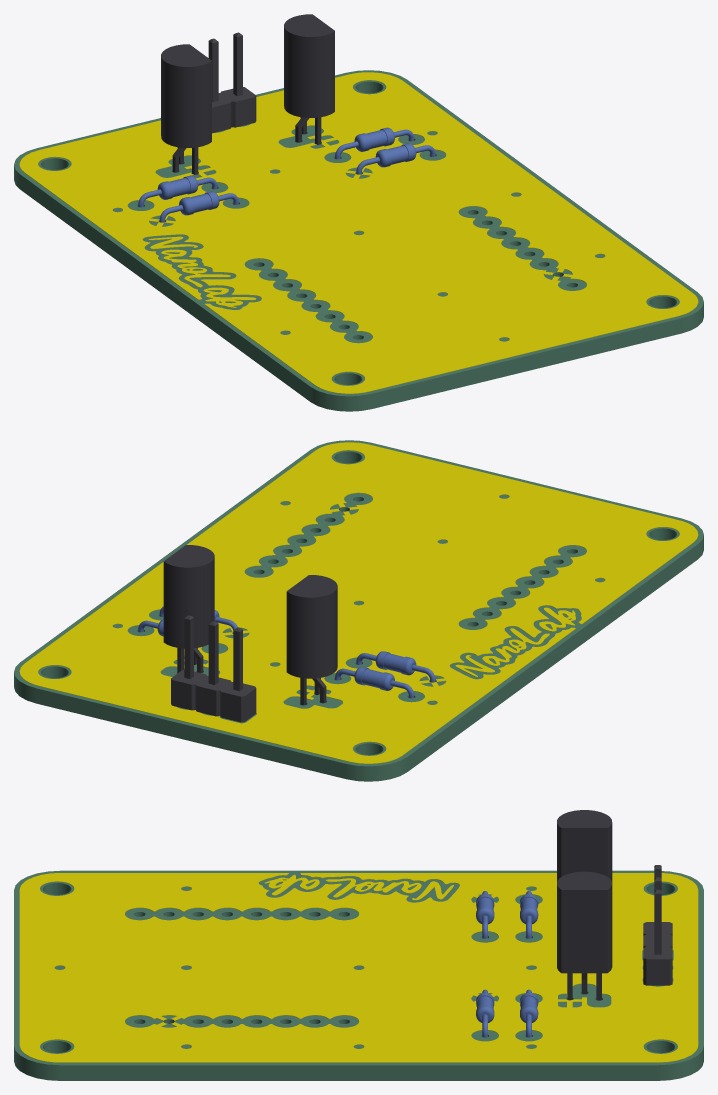
File: clicker.glb
The picture shows the model from 3 angles, top to bottom: view 1: azimuth 30°, elevation 25°; view 2: azimuth 150°, elevation 25°; view 3: azimuth 270°, elevation 25°; orthographic projection. The views are drawn at different scales.
Parts seen in each view (by area): view 1: =>[0:1:1:5], =>[0:1:1:7], Q101, Q102, J101, R101, R103, R104, R102; view 2: =>[0:1:1:5], =>[0:1:1:7], Q101, Q102, J101, R101, R102; view 3: =>[0:1:1:5], =>[0:1:1:7], Q102, Q101, J101, R102, R101, R104, R103.
Part boxes in pixels (x1,y1,x2,y2): =>[0:1:1:5]: (19,72,698,393); =>[0:1:1:7]: (14,70,703,411); Q101: (161,44,211,174); Q102: (284,14,334,144); J101: (208,32,256,133); R101: (138,175,217,207); R103: (335,127,414,159); R104: (356,143,435,174); R102: (159,191,238,222); =>[0:1:1:5]: (19,442,698,763); =>[0:1:1:7]: (14,440,703,781); Q101: (286,575,337,705); Q102: (163,545,214,673); J101: (171,615,256,722); R101: (335,666,414,698); R102: (356,651,435,682); =>[0:1:1:5]: (19,873,698,1062); =>[0:1:1:7]: (14,870,703,1080); Q102: (557,871,612,1000); Q101: (557,810,612,883); J101: (643,865,672,985); R102: (476,891,494,938); R101: (520,891,538,938); R104: (476,989,494,1037); R103: (520,989,538,1037).
Bounding box in the file's own units: 0.04 × 0.014 × 0.06.
